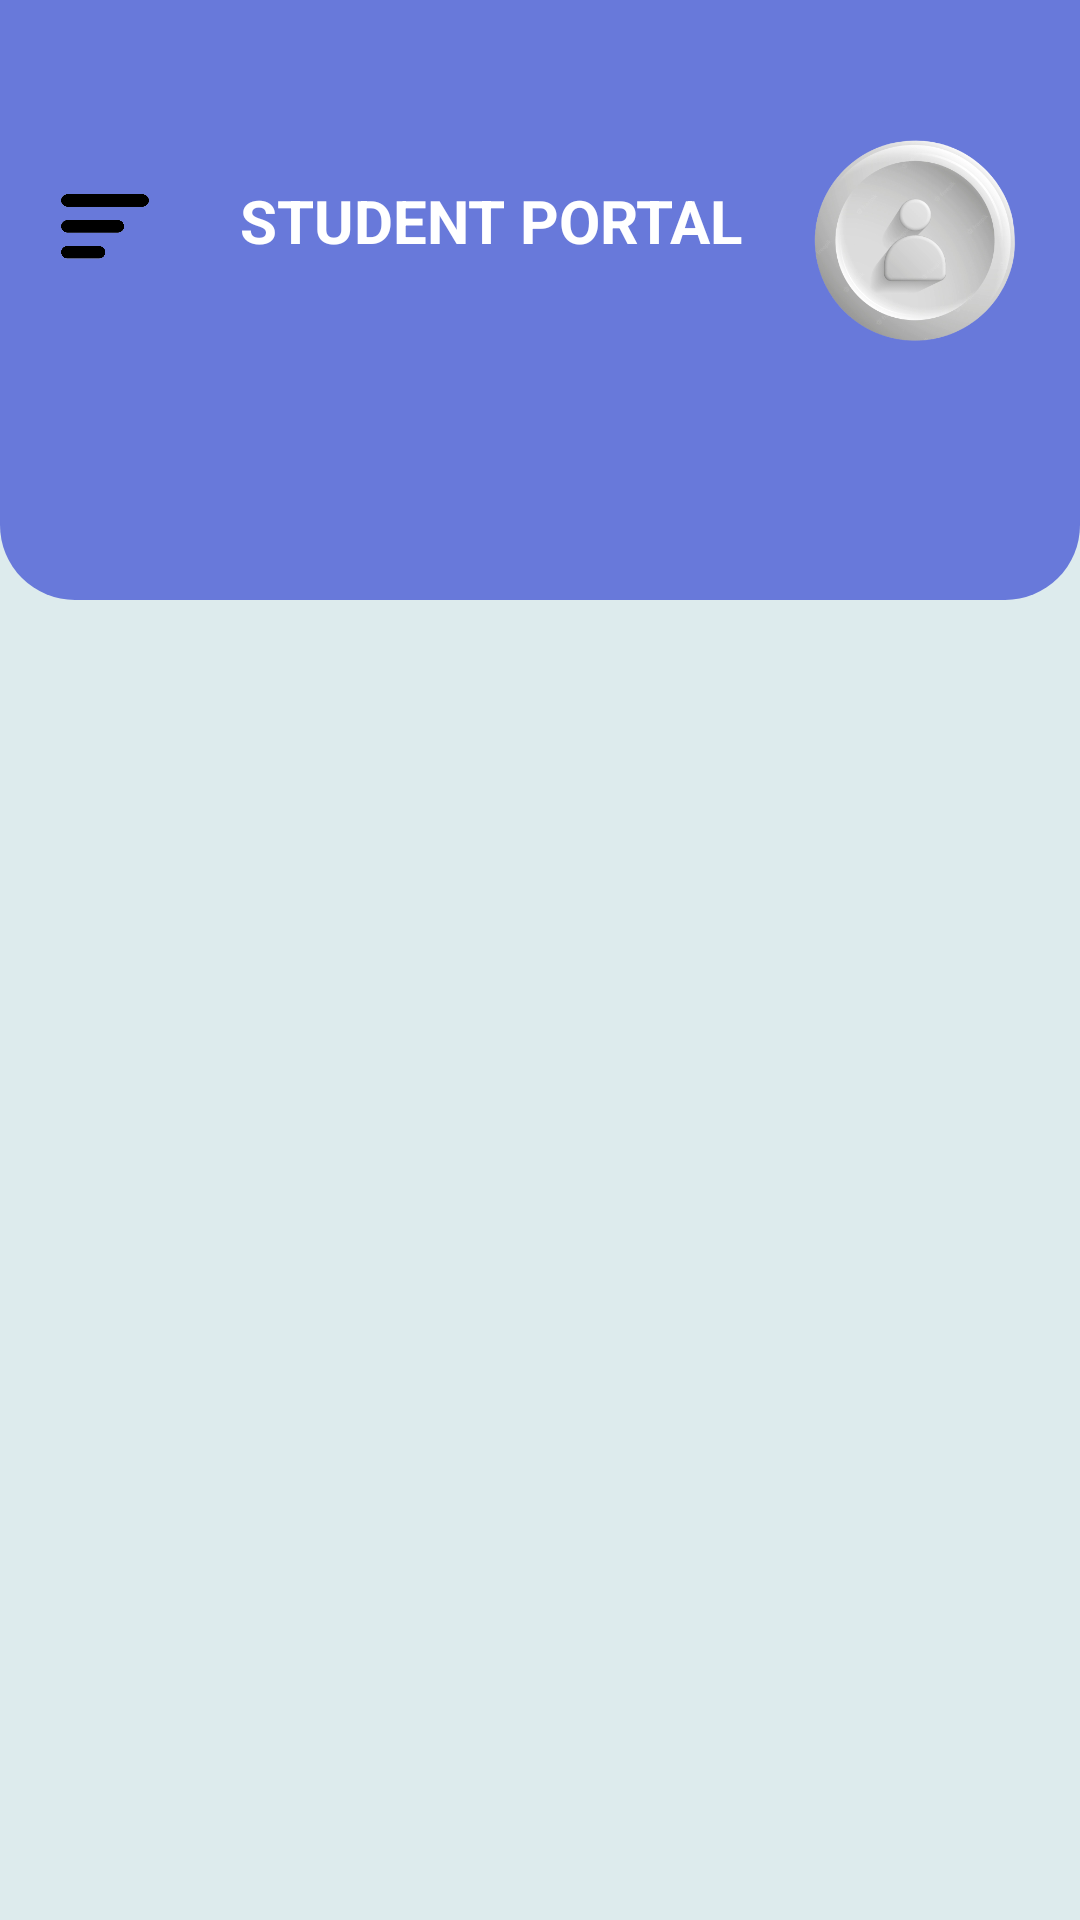

Screen size 1080w x 1920h. Icon name, then its box in pixels as (x1, y1, x2, y2):
menu: (61, 194, 149, 259)
profile: (815, 140, 1015, 341)
